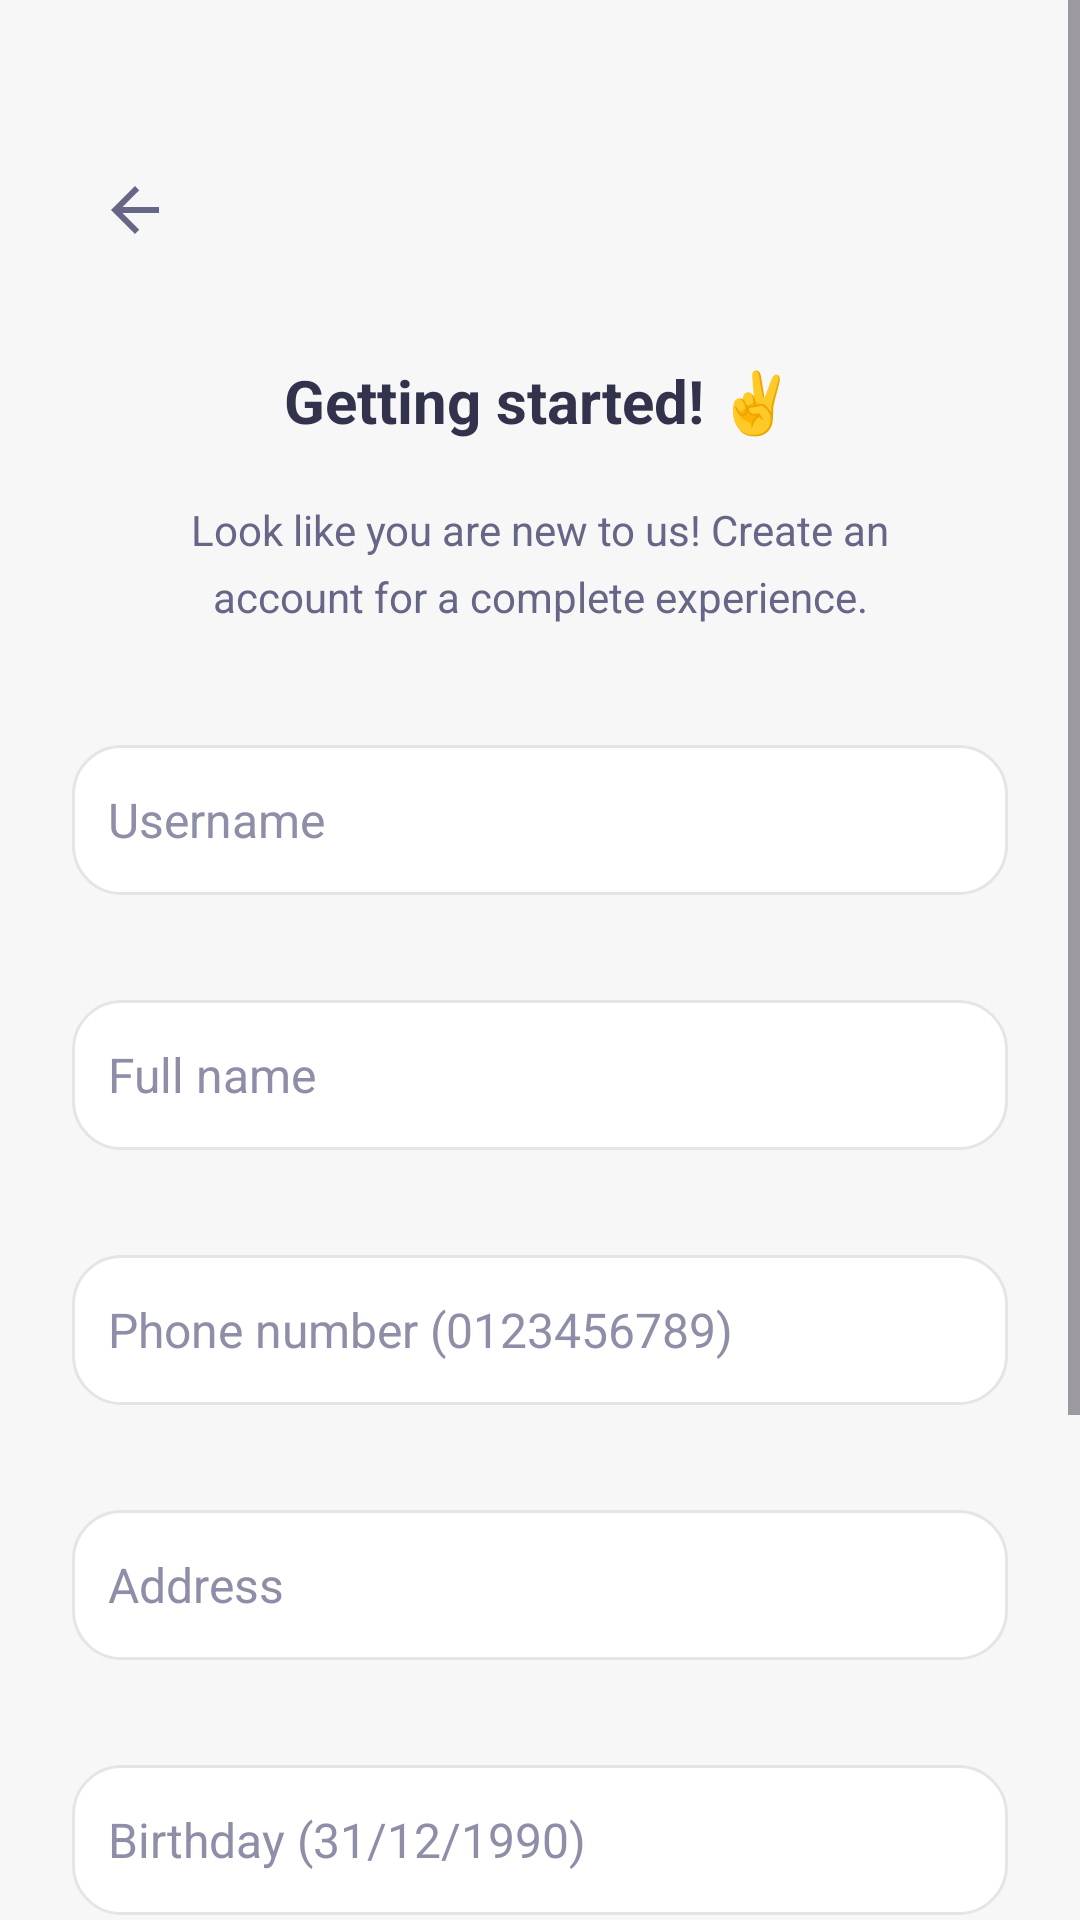

Where icons sit on this 1080×1920 app screen, as (x1, y1, x2, y2):
Back: (111, 186, 159, 234)
